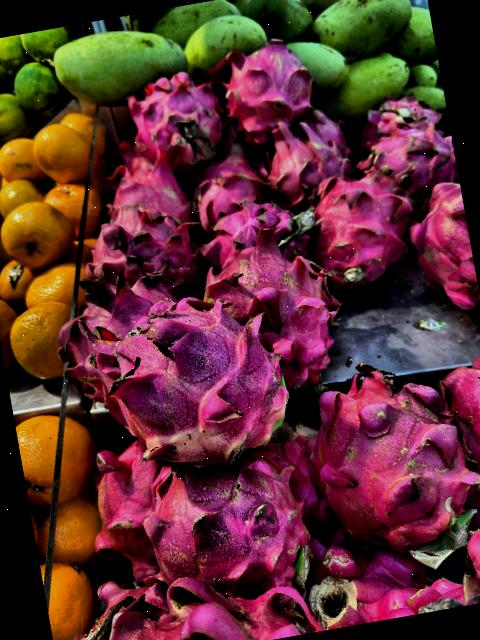buah-naga-belum-matang: (96, 285, 290, 467)
buah-naga-matang: (294, 351, 478, 546), (135, 447, 311, 598), (205, 222, 340, 386), (77, 542, 298, 640), (58, 258, 174, 389), (301, 154, 416, 286), (292, 534, 438, 634), (70, 198, 190, 306), (116, 64, 228, 170), (213, 31, 316, 146), (82, 430, 163, 574), (412, 178, 480, 308), (357, 125, 460, 206), (256, 118, 348, 202), (432, 338, 480, 492), (95, 154, 187, 228), (201, 200, 304, 260), (185, 152, 270, 222), (351, 87, 442, 140)
